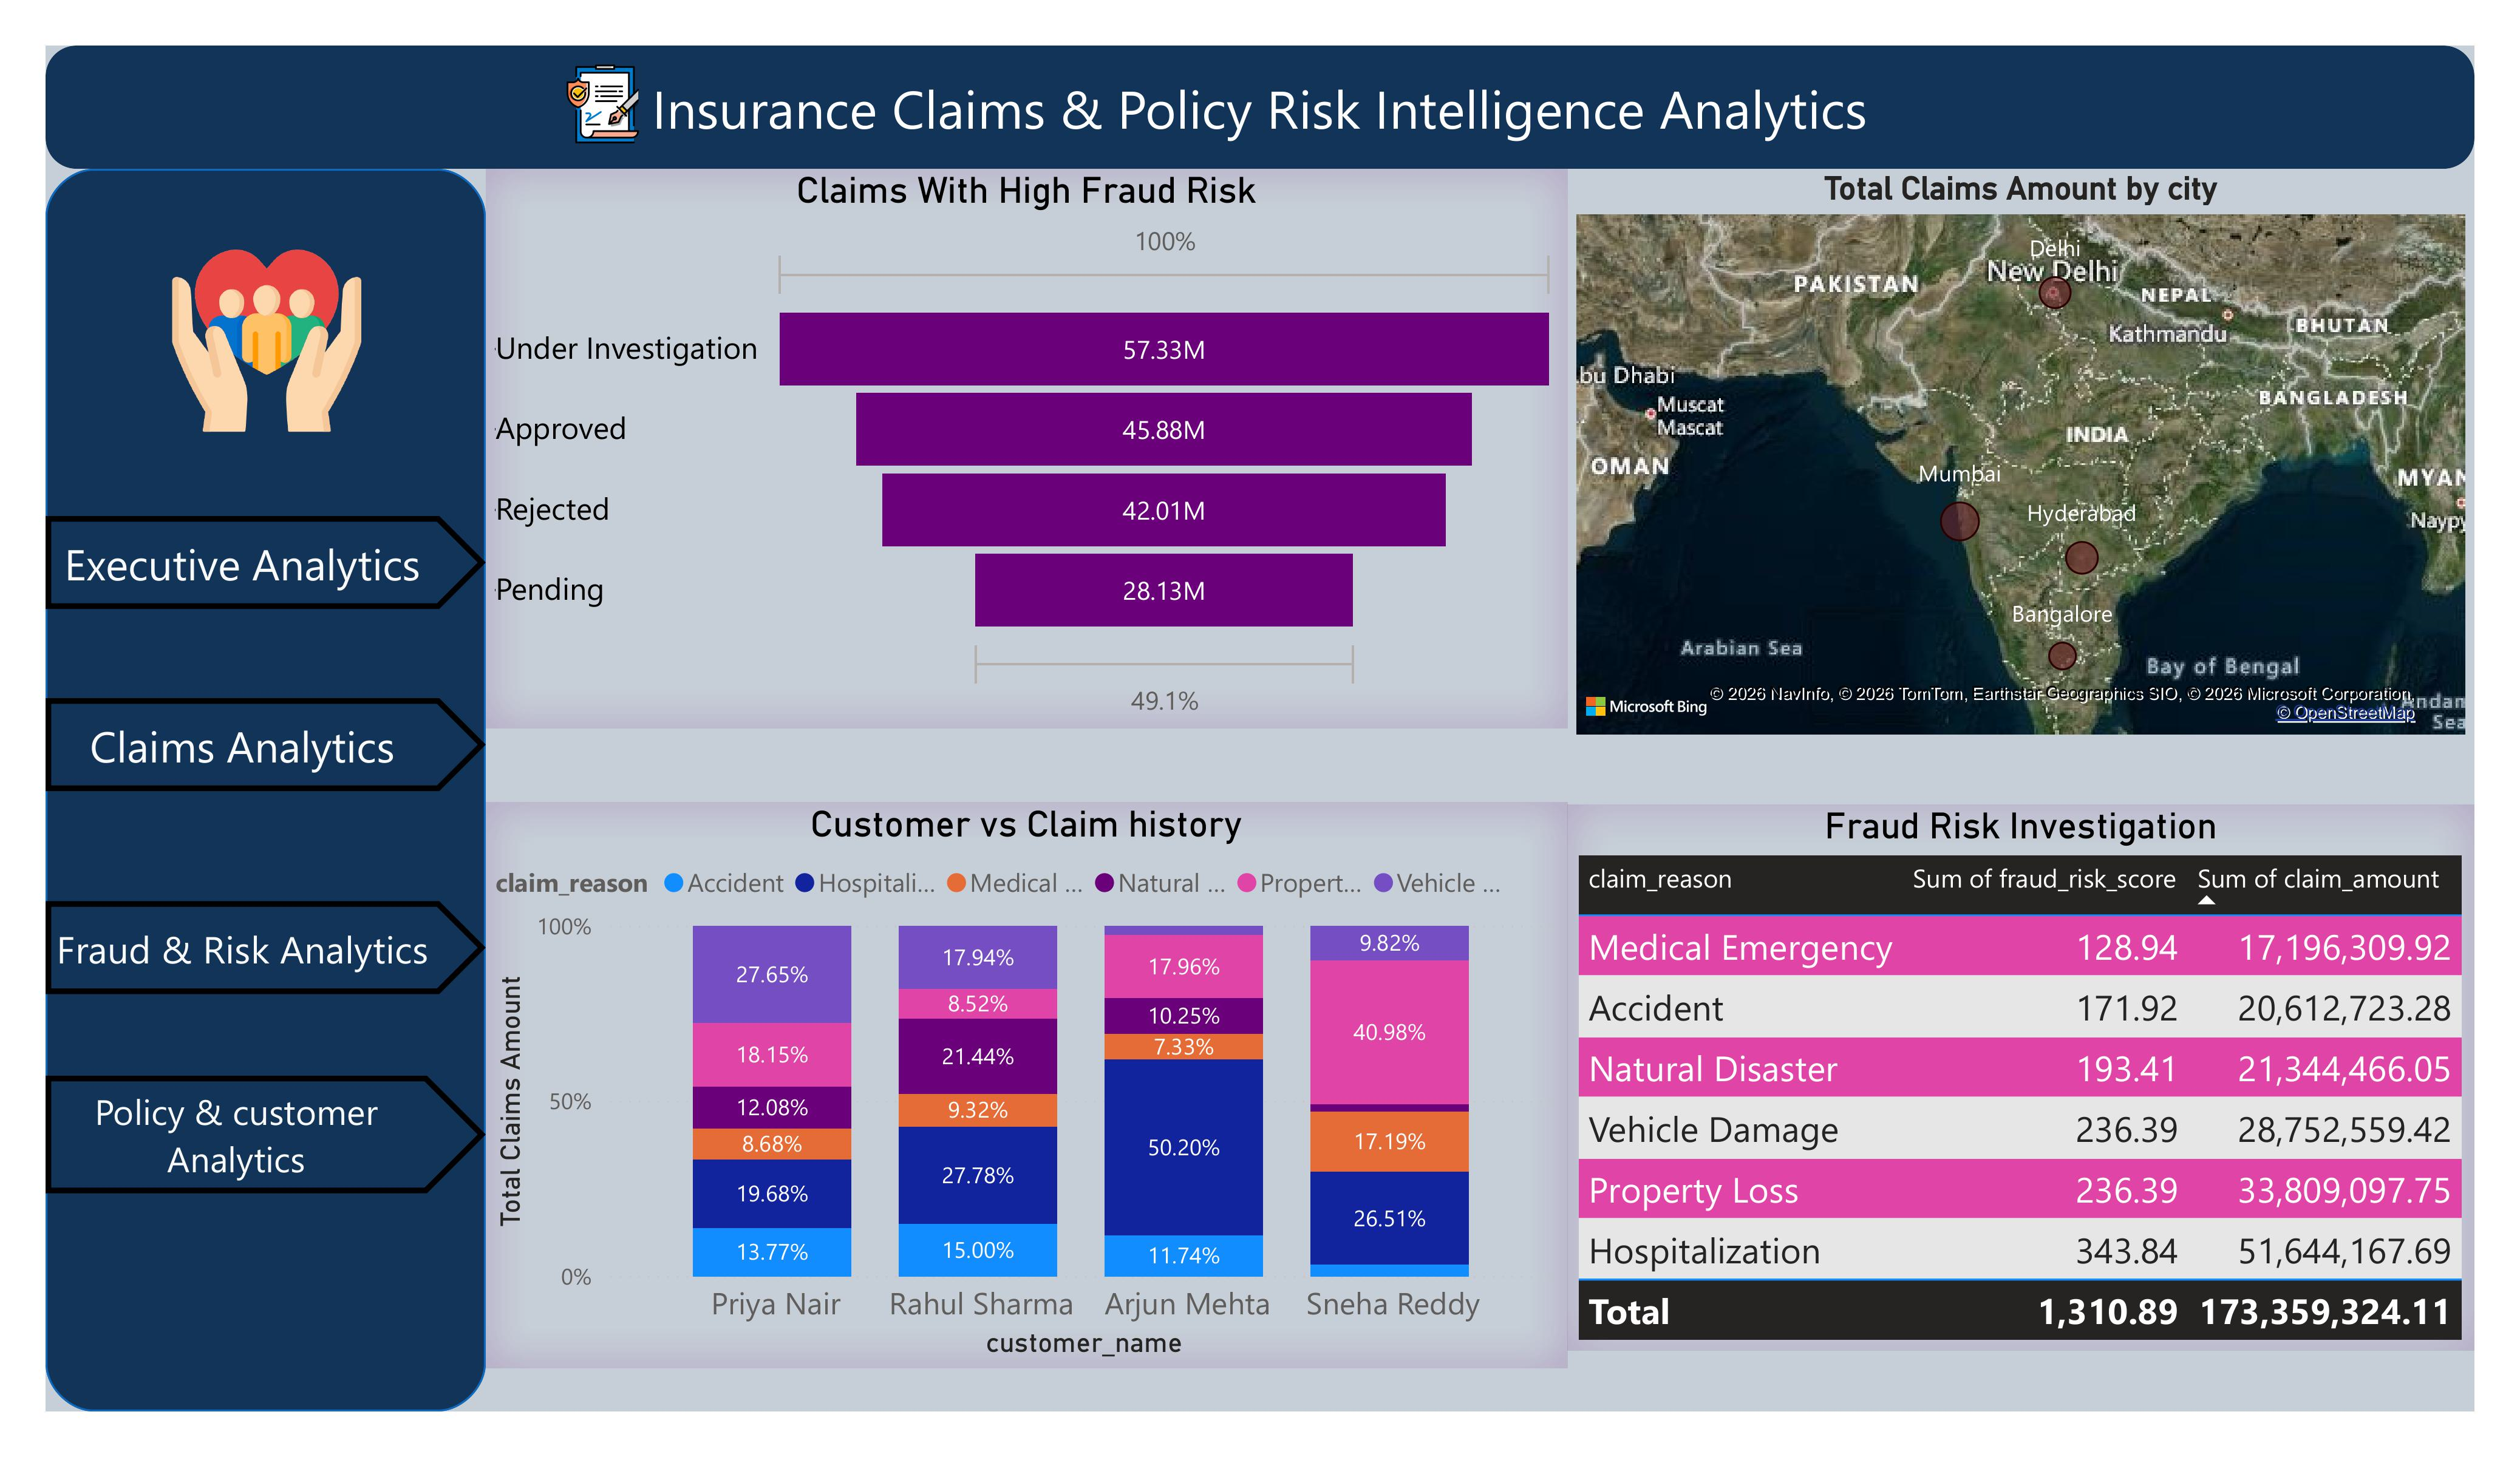

The page's visual inventory and layout, read from the dashboard file:
{"tool":"powerbi","page":{"name":"Fraud & Risk ","canvas":[1280,720],"ordinal":3},"visuals":[{"type":"shape","box":[0,0,1280.2,64.8],"z":0},{"type":"shape","box":[0,64.8,231.8,655.2],"z":1000},{"type":"actionButton","box":[0,247.7,231.8,49],"z":2000},{"type":"actionButton","box":[0,344.2,231.8,49],"z":3000},{"type":"actionButton","box":[0,450.7,231.8,49],"z":4000},{"type":"actionButton","box":[0,542.9,231.8,61.9],"z":5000},{"type":"image","box":[33.1,103.7,167,103.7],"z":6000},{"type":"image","box":[270.7,7.2,47.5,49],"z":7000},{"type":"funnel","title":"Claims With High Fraud Risk","fields":{"Y":["Sum(fact_insurance_claims.claim_amount)"],"Category":["fact_insurance_claims.fraud_risk_score","dim_claim_status.claim_status"]},"box":[231.8,64.8,570.2,295.2],"z":8000},{"type":"hundredPercentStackedColumnChart","title":"Customer vs Claim history","fields":{"Category":["dim_customer.customer_name"],"Series":["fact_insurance_claims.claim_reason"],"Y":["Measures (3).Total Claims Amount"]},"box":[231.8,398.9,570.2,298.1],"z":9000},{"type":"map","fields":{"Category":["dim_customer.city"],"Size":["Measures (3).Total Claims Amount"]},"box":[802.5,64.6,477.5,303.4],"z":10000},{"type":"tableEx","title":"Fraud Risk Investigation","fields":{"Values":["fact_insurance_claims.claim_reason","Sum(fact_insurance_claims.fraud_risk_score)","Sum(fact_insurance_claims.claim_amount)"]},"box":[802.5,400.3,477.5,287.2],"z":11000}]}

Visuals, with their boxes on the page's 1280x720 design canvas (x1, y1, x2, y2). These are canvas units, not pixel positions in the 2520x1457 screenshot, which may show the page scaled, cropped or inside an application window:
shape: Rect(0, 0, 1280, 65)
shape: Rect(0, 65, 232, 720)
actionButton: Rect(0, 248, 232, 297)
actionButton: Rect(0, 344, 232, 393)
actionButton: Rect(0, 451, 232, 500)
actionButton: Rect(0, 543, 232, 605)
image: Rect(33, 104, 200, 207)
image: Rect(271, 7, 318, 56)
"Claims With High Fraud Risk" funnel: Rect(232, 65, 802, 360)
"Customer vs Claim history" hundredPercentStackedColumnChart: Rect(232, 399, 802, 697)
map - dim_customer.city x Measures (3).Total Claims Amount: Rect(802, 65, 1280, 368)
"Fraud Risk Investigation" tableEx: Rect(802, 400, 1280, 688)
